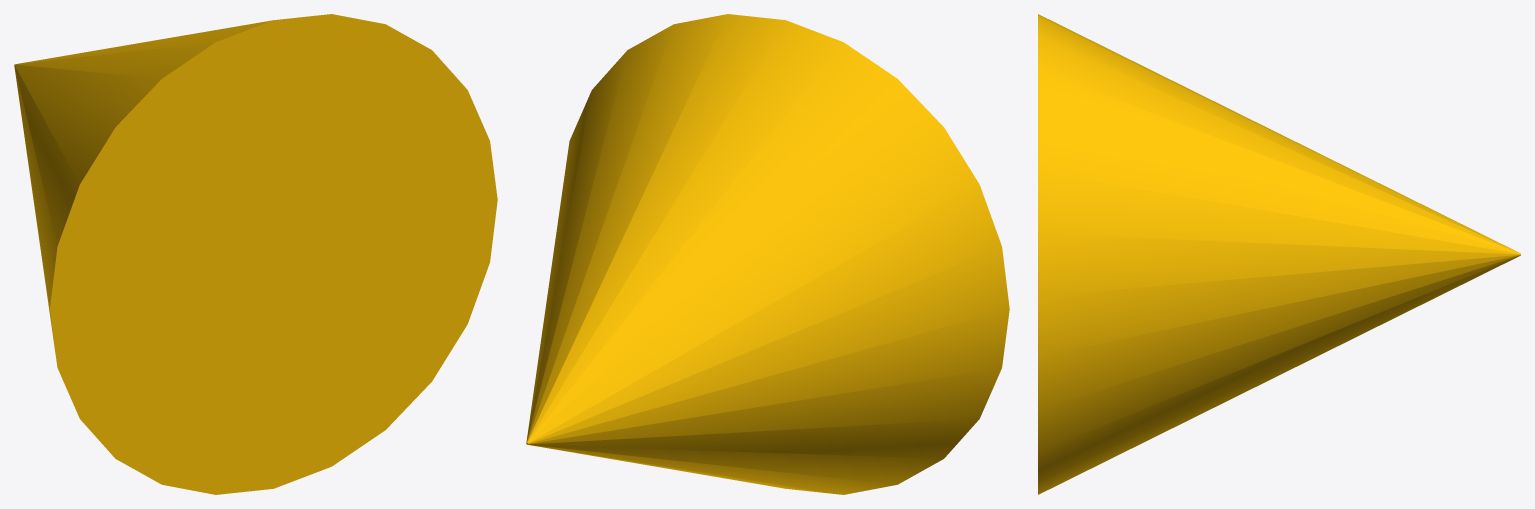
The model's file is vec_165.dae.
3 views of the same model, side by side, from view 1: azimuth 30°, elevation 25°; view 2: azimuth 150°, elevation 25°; view 3: azimuth 270°, elevation 25° (orthographic). The views are drawn at different scales.
Parts seen in each view (by area): view 1: Model; view 2: Model; view 3: Model.
Part boxes in pixels (x1,y1,x2,y2): Model: [14, 14, 497, 494]; Model: [526, 14, 1009, 494]; Model: [1038, 14, 1520, 494].
Size of the model in its own units: 1 by 1 by 1.
